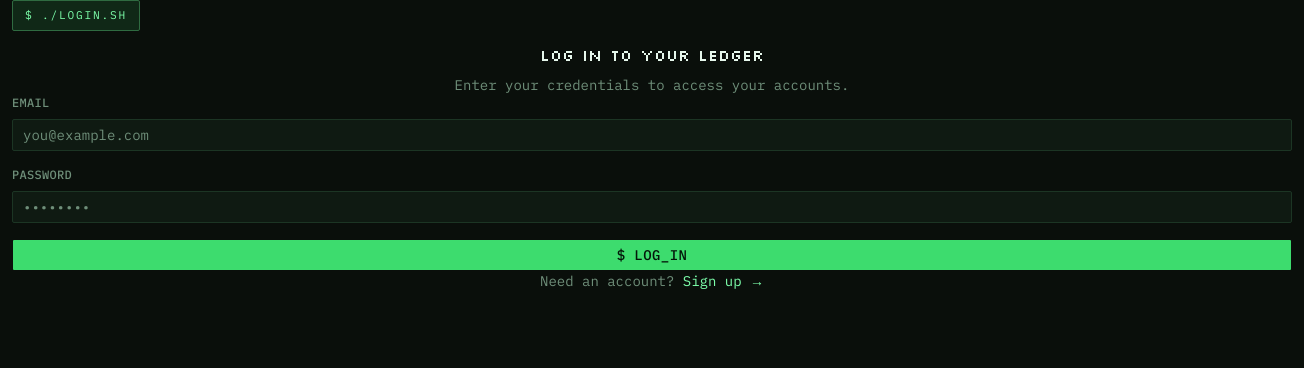
Test: <LoginForm /> › shows an error banner when login rejects with invalid_credentials
This screenshot has width=1304, height=368.
Type "priya@nimbus.dev" into the field labelled "Email".
click(652, 135); type("priya@nimbus.dev")  # box [12, 119, 1292, 151]
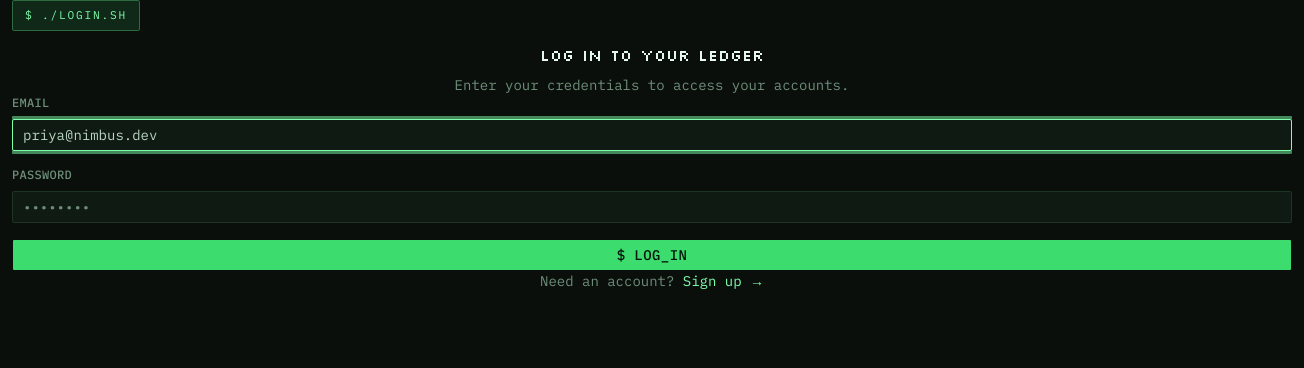
Type "wrongpass" into the password field labelled "Password".
click(652, 207); type("wrongpass")  # box [12, 191, 1292, 223]
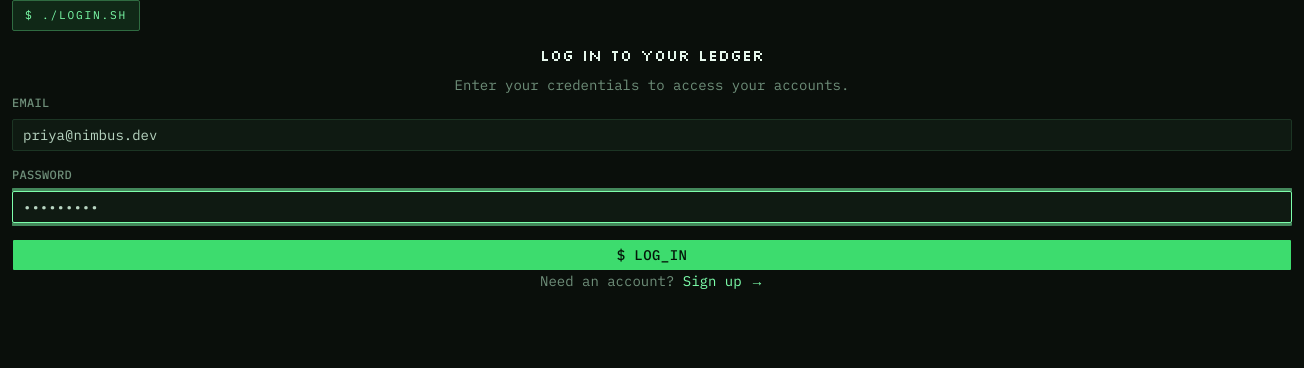
Click the button "$ LOG_IN".
click(652, 255)  # box [12, 239, 1292, 271]
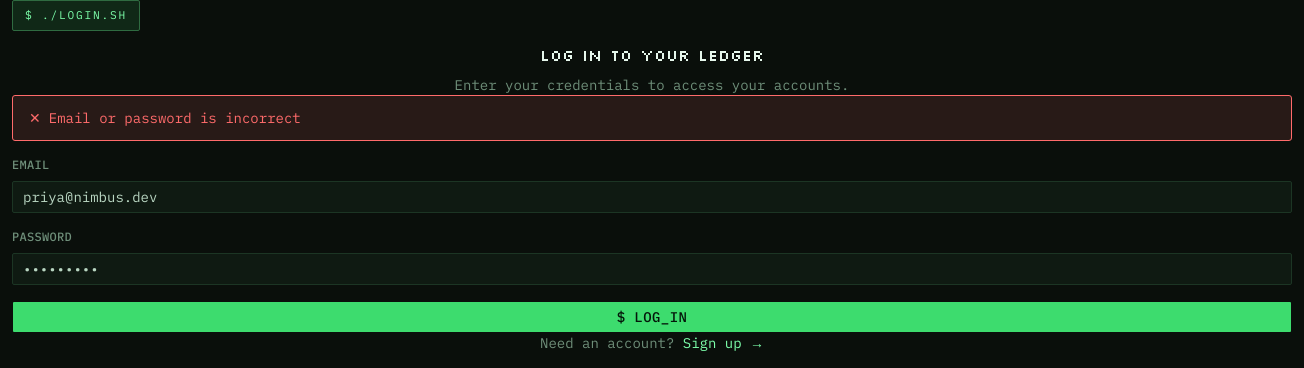
Expected: the message shows "Email or password is incorrect", [49, 109, 301, 127]
